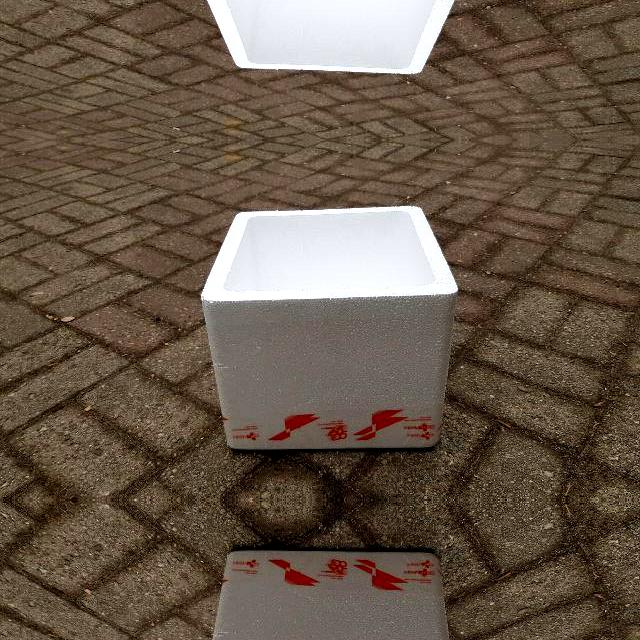Styrofoam: (201, 205, 459, 451), (202, 205, 458, 450), (201, 549, 459, 640), (212, 550, 450, 640), (201, 0, 459, 75), (207, 0, 455, 75)
